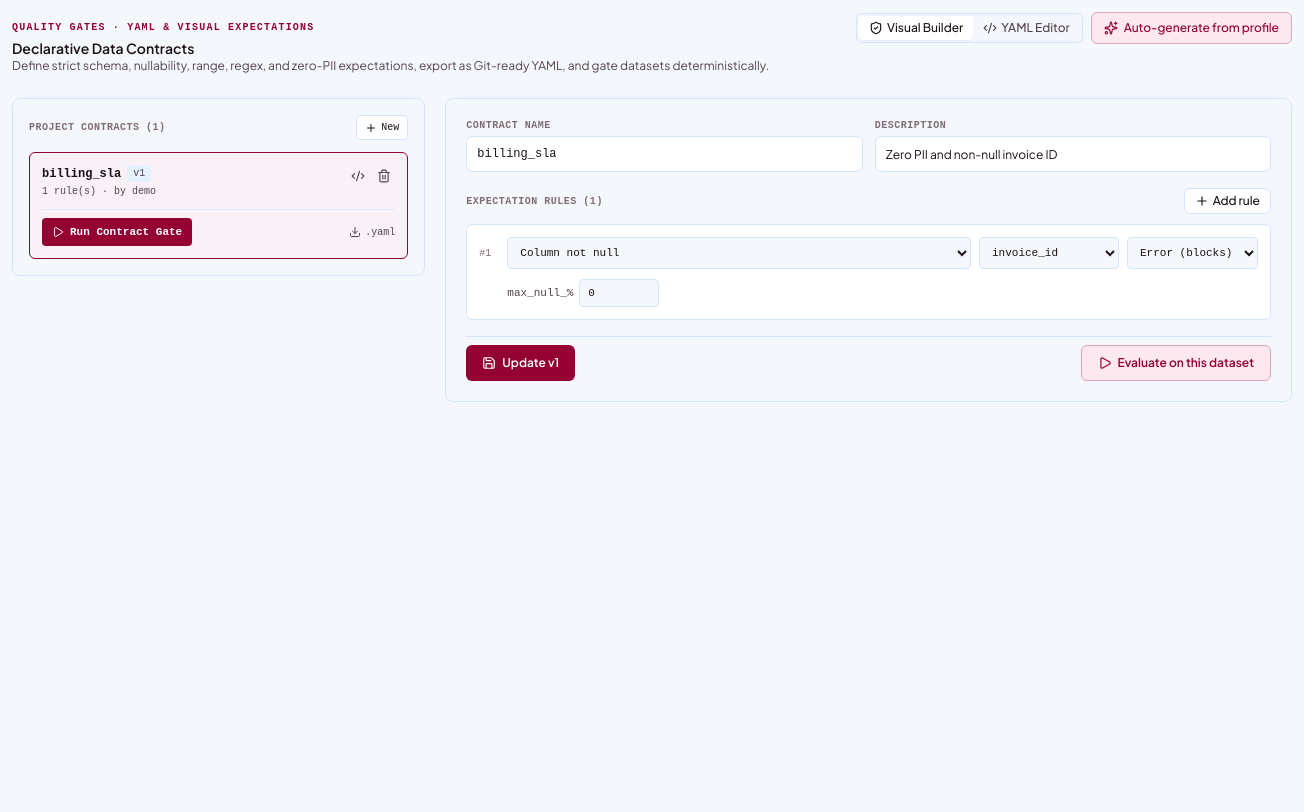
Test: ContractsPanel › evaluates a saved contract gate and renders pass/fail rule diagnostics
Expected: the text "billing_sla" is shown, x1=42 y1=166 x2=121 y2=182
Click the button "Run Contract Gate". click: {"x": 117, "y": 232}
box: x1=42 y1=218 x2=192 y2=246
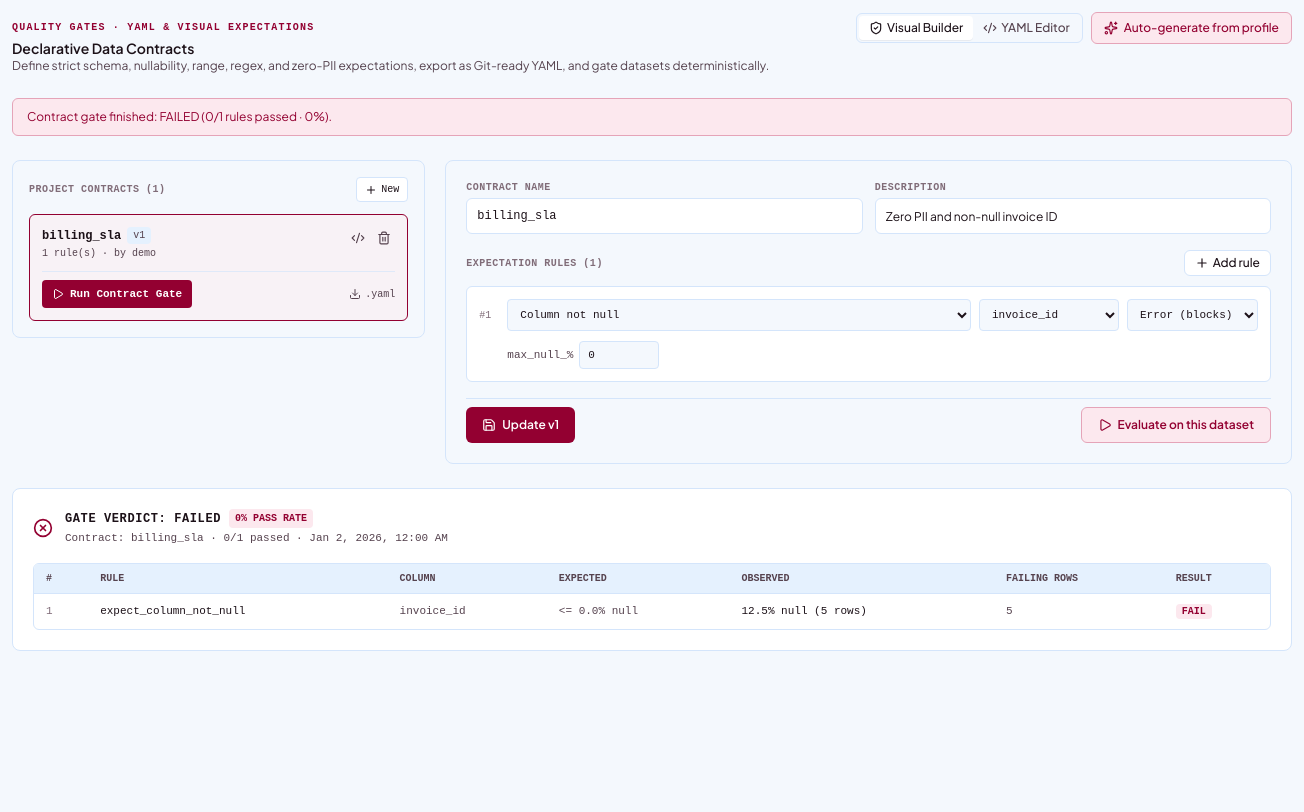
Expected: the text "GATE VERDICT: failed" is shown, x1=65 y1=511 x2=221 y2=527
Expected: the text "12.5% null (5 rows)" is shown, x1=730 y1=594 x2=994 y2=629
Expected: the text "FAIL" is shown, x1=1176 y1=604 x2=1212 y2=619
